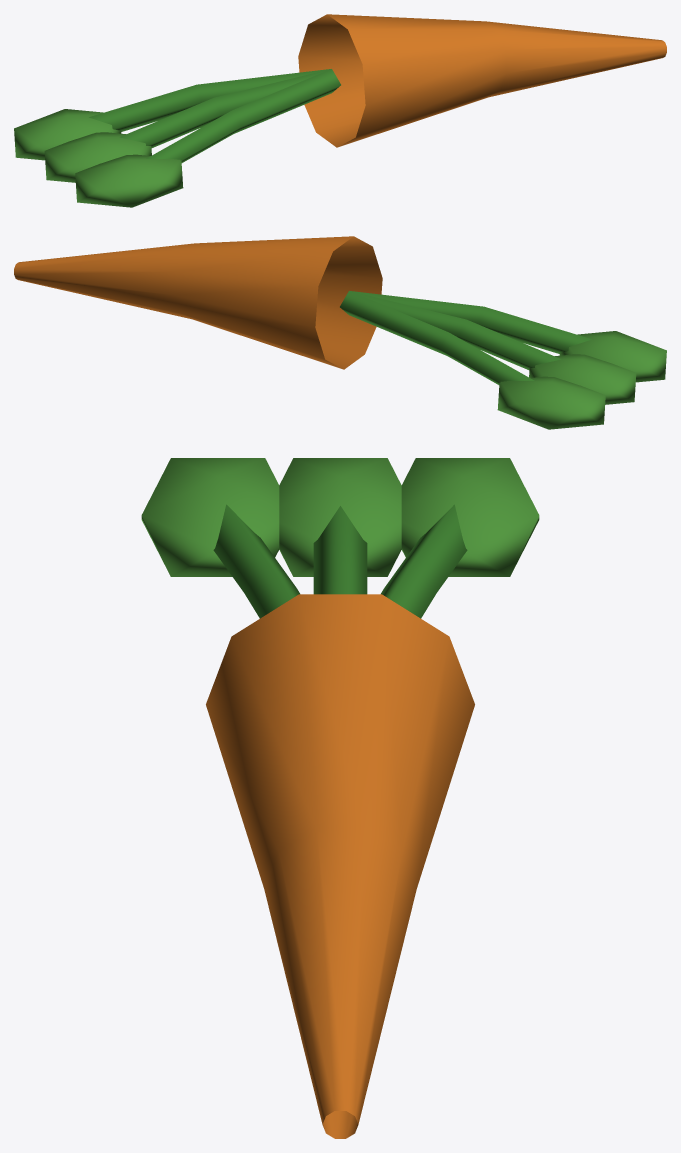
Rendered from item_veg_carrot.glb.
3 renders of one model, top to bottom at view 1: azimuth 30°, elevation 25°; view 2: azimuth 150°, elevation 25°; view 3: azimuth 270°, elevation 25°, orthographic. The views are drawn at different scales.
Parts seen in each view (by area): view 1: item_veg_carrot_main; view 2: item_veg_carrot_main; view 3: item_veg_carrot_main.
Part boxes in pixels (box(x1,y1,x2,y2)): item_veg_carrot_main: box(14, 14, 666, 207); item_veg_carrot_main: box(14, 236, 666, 429); item_veg_carrot_main: box(141, 458, 539, 1138).
Size of the model in its own units: 0.3175 by 0.0568 by 0.0885.
